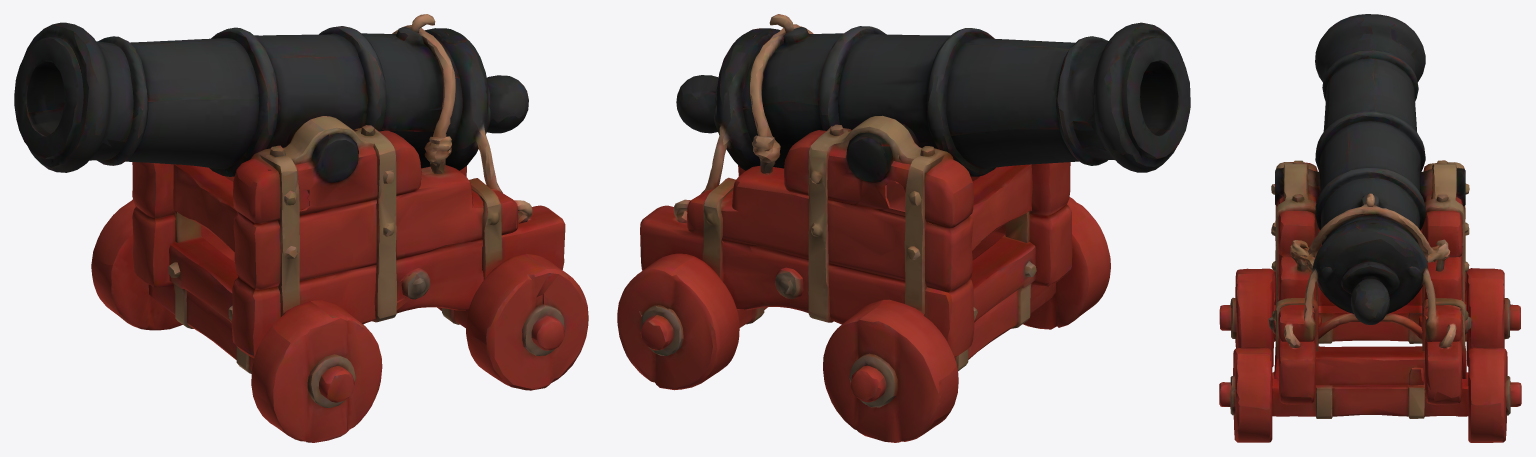
Rendered from x-cannon.glb.
3 views of the same model, side by side, from view 1: azimuth 30°, elevation 25°; view 2: azimuth 150°, elevation 25°; view 3: azimuth 270°, elevation 25° (orthographic). The views are drawn at different scales.
Visible parts, largest first — view 1: geometry_0; view 2: geometry_0; view 3: geometry_0.
Part boxes in pixels (left/top/right/bottom): geometry_0: left=14, top=14, right=588, bottom=442; geometry_0: left=617, top=14, right=1190, bottom=442; geometry_0: left=1219, top=14, right=1521, bottom=442.
Bounding box in the file's own units: 0.35 × 0.2649 × 0.251.
Materials: 1 (1 with a texture image).
